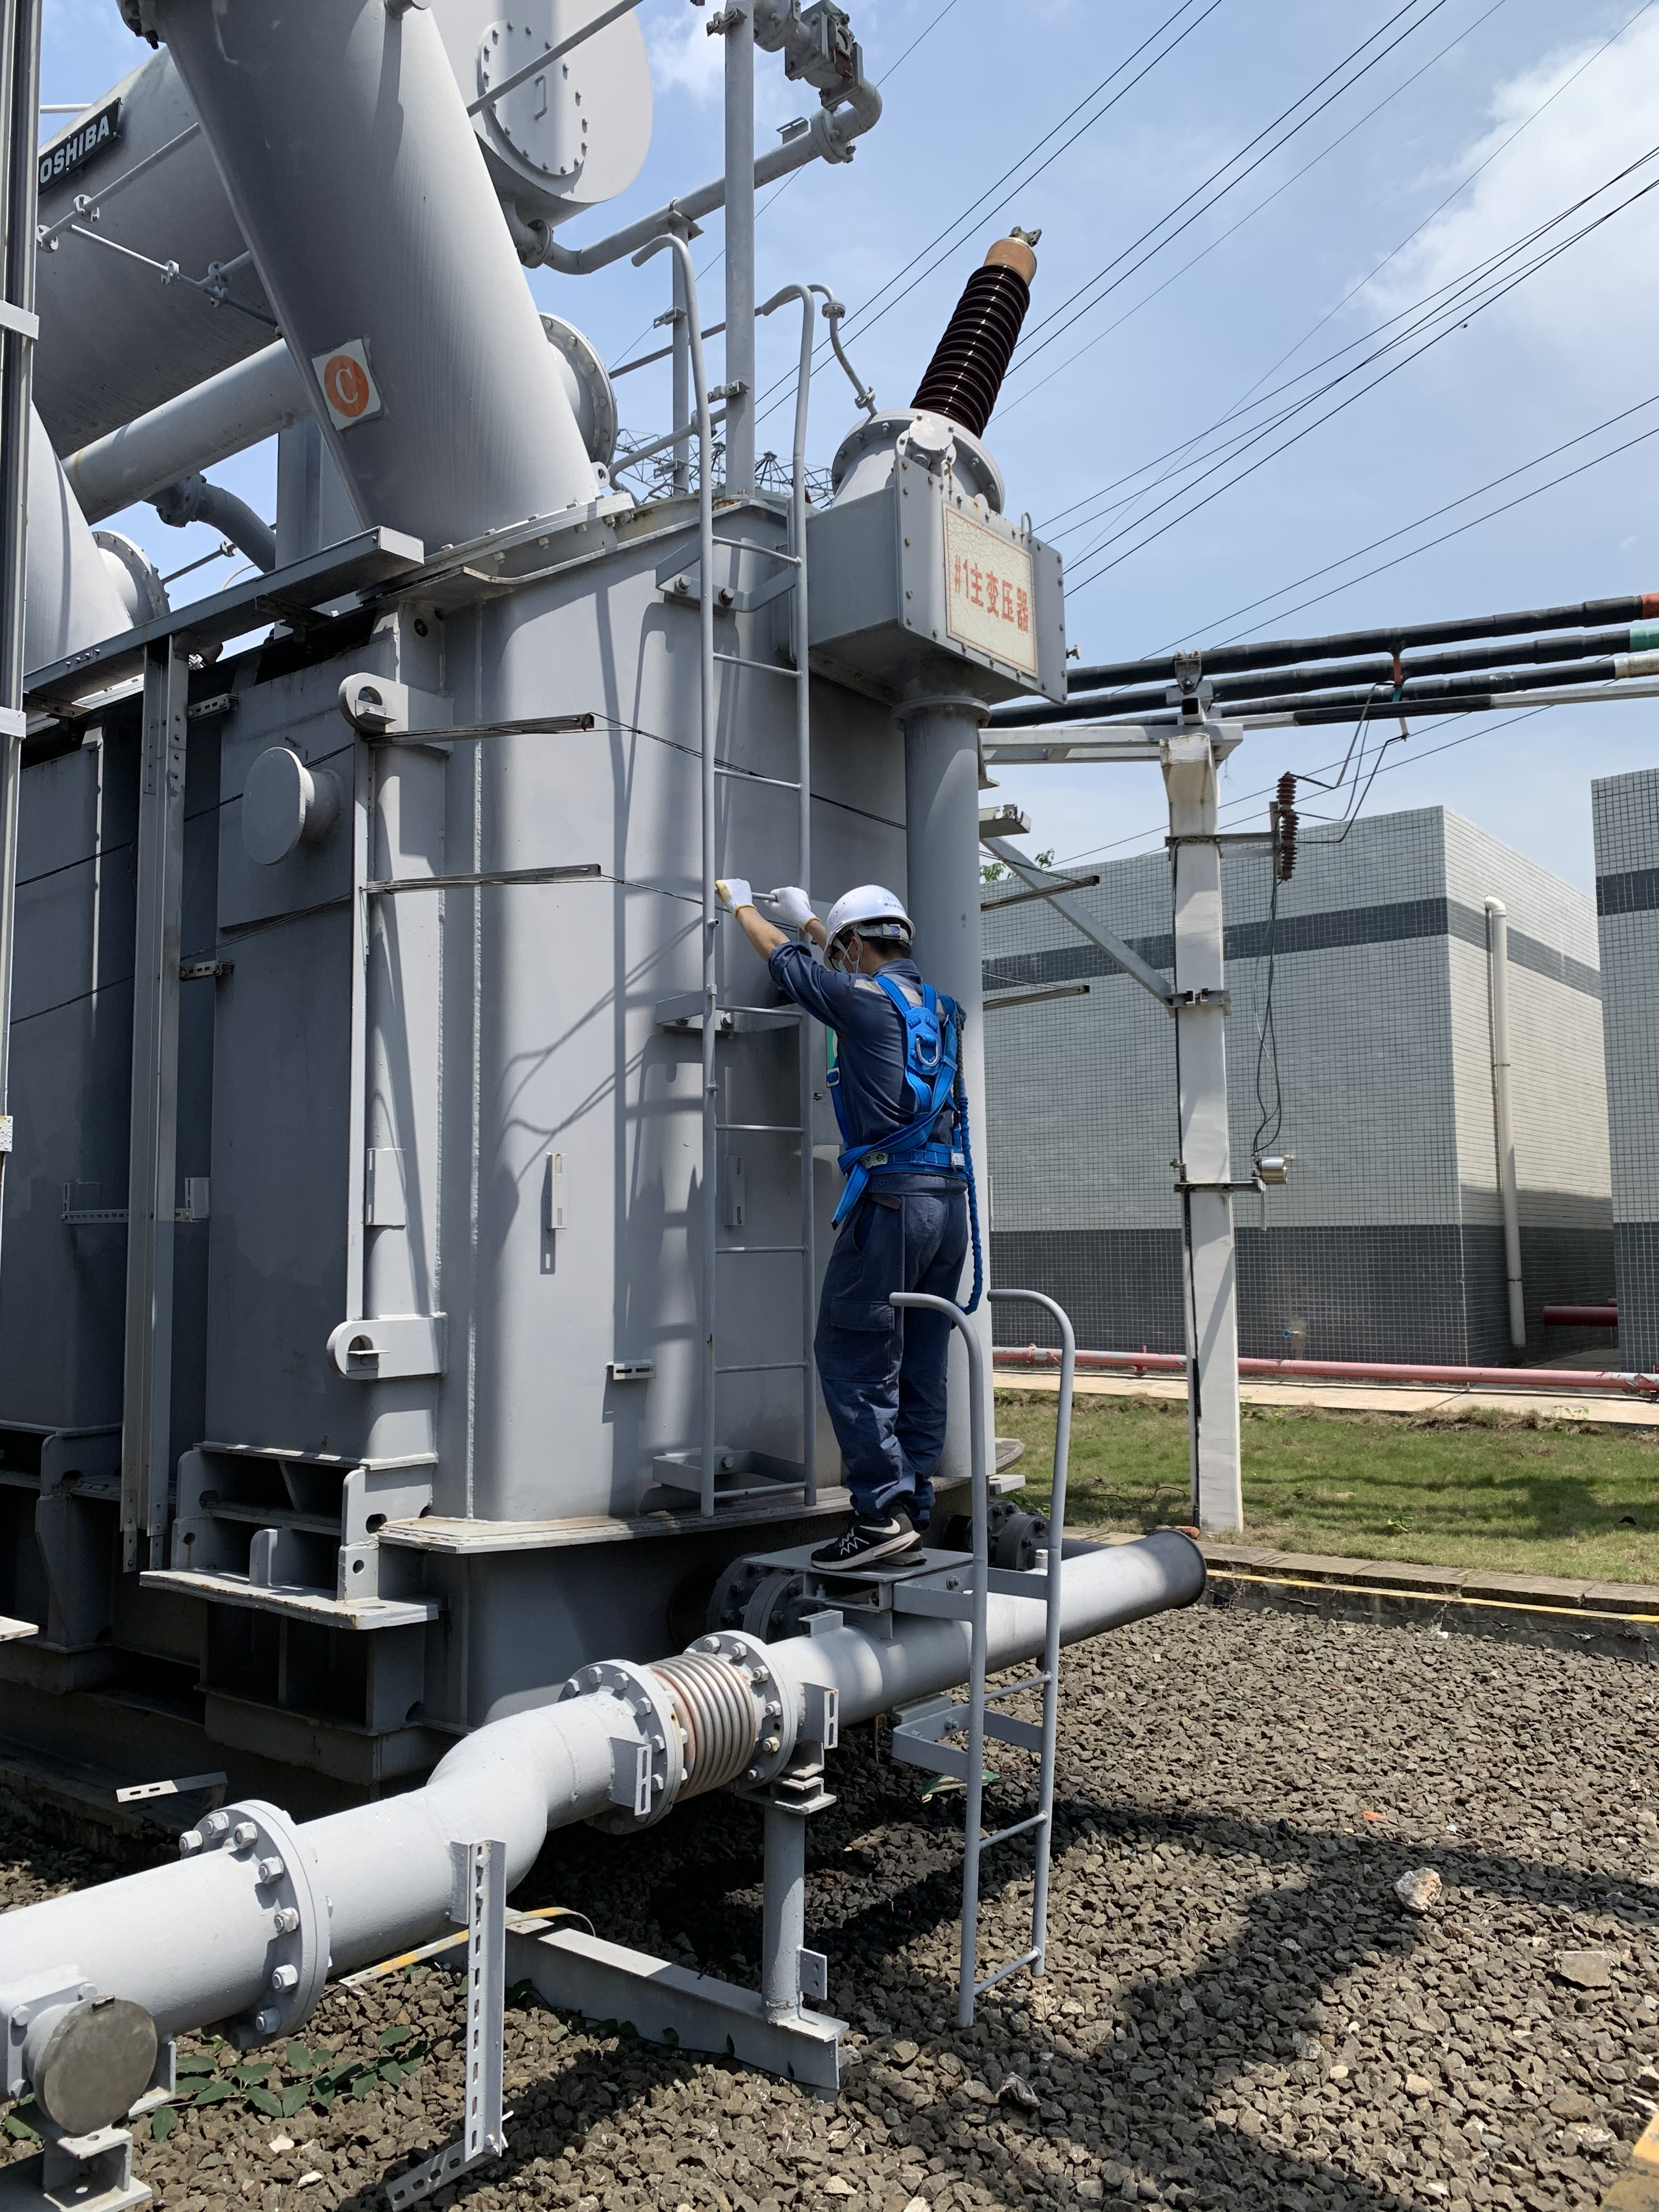downsuit: (803, 1195, 993, 1514)
upsuit: (777, 949, 965, 1177)
wrongtop: (723, 883, 835, 977)
